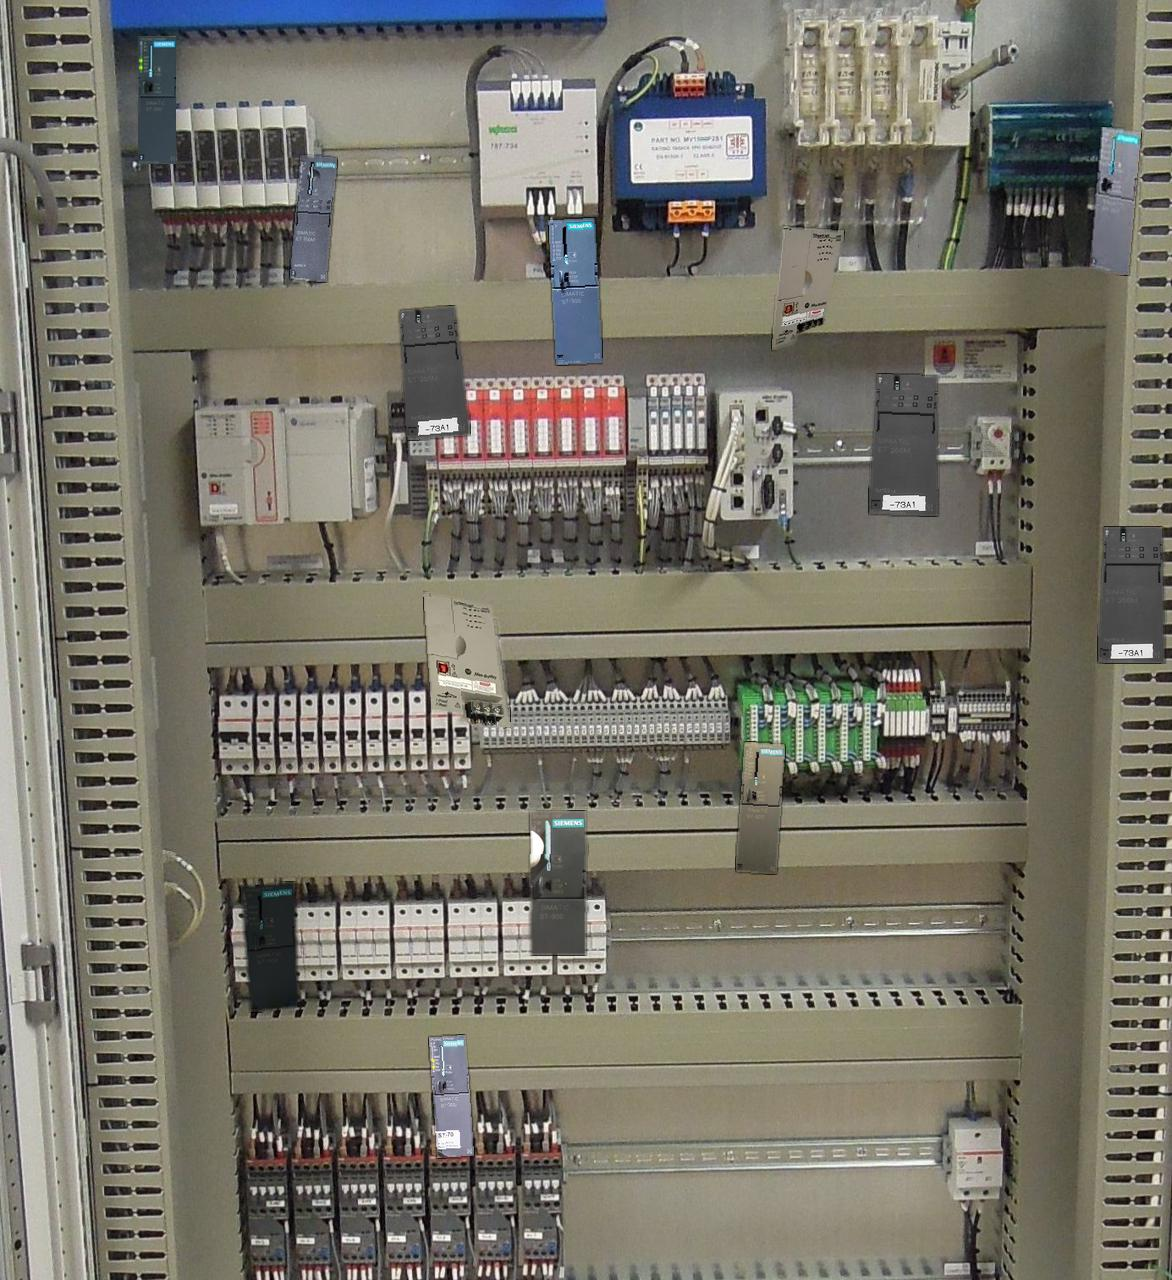AllenBradley: (423, 592, 510, 727), (772, 227, 843, 349)
Siemens: (530, 811, 587, 954), (548, 219, 602, 363), (1089, 127, 1140, 274), (241, 882, 298, 1011), (736, 741, 784, 873), (429, 1035, 473, 1157), (138, 36, 175, 163)
